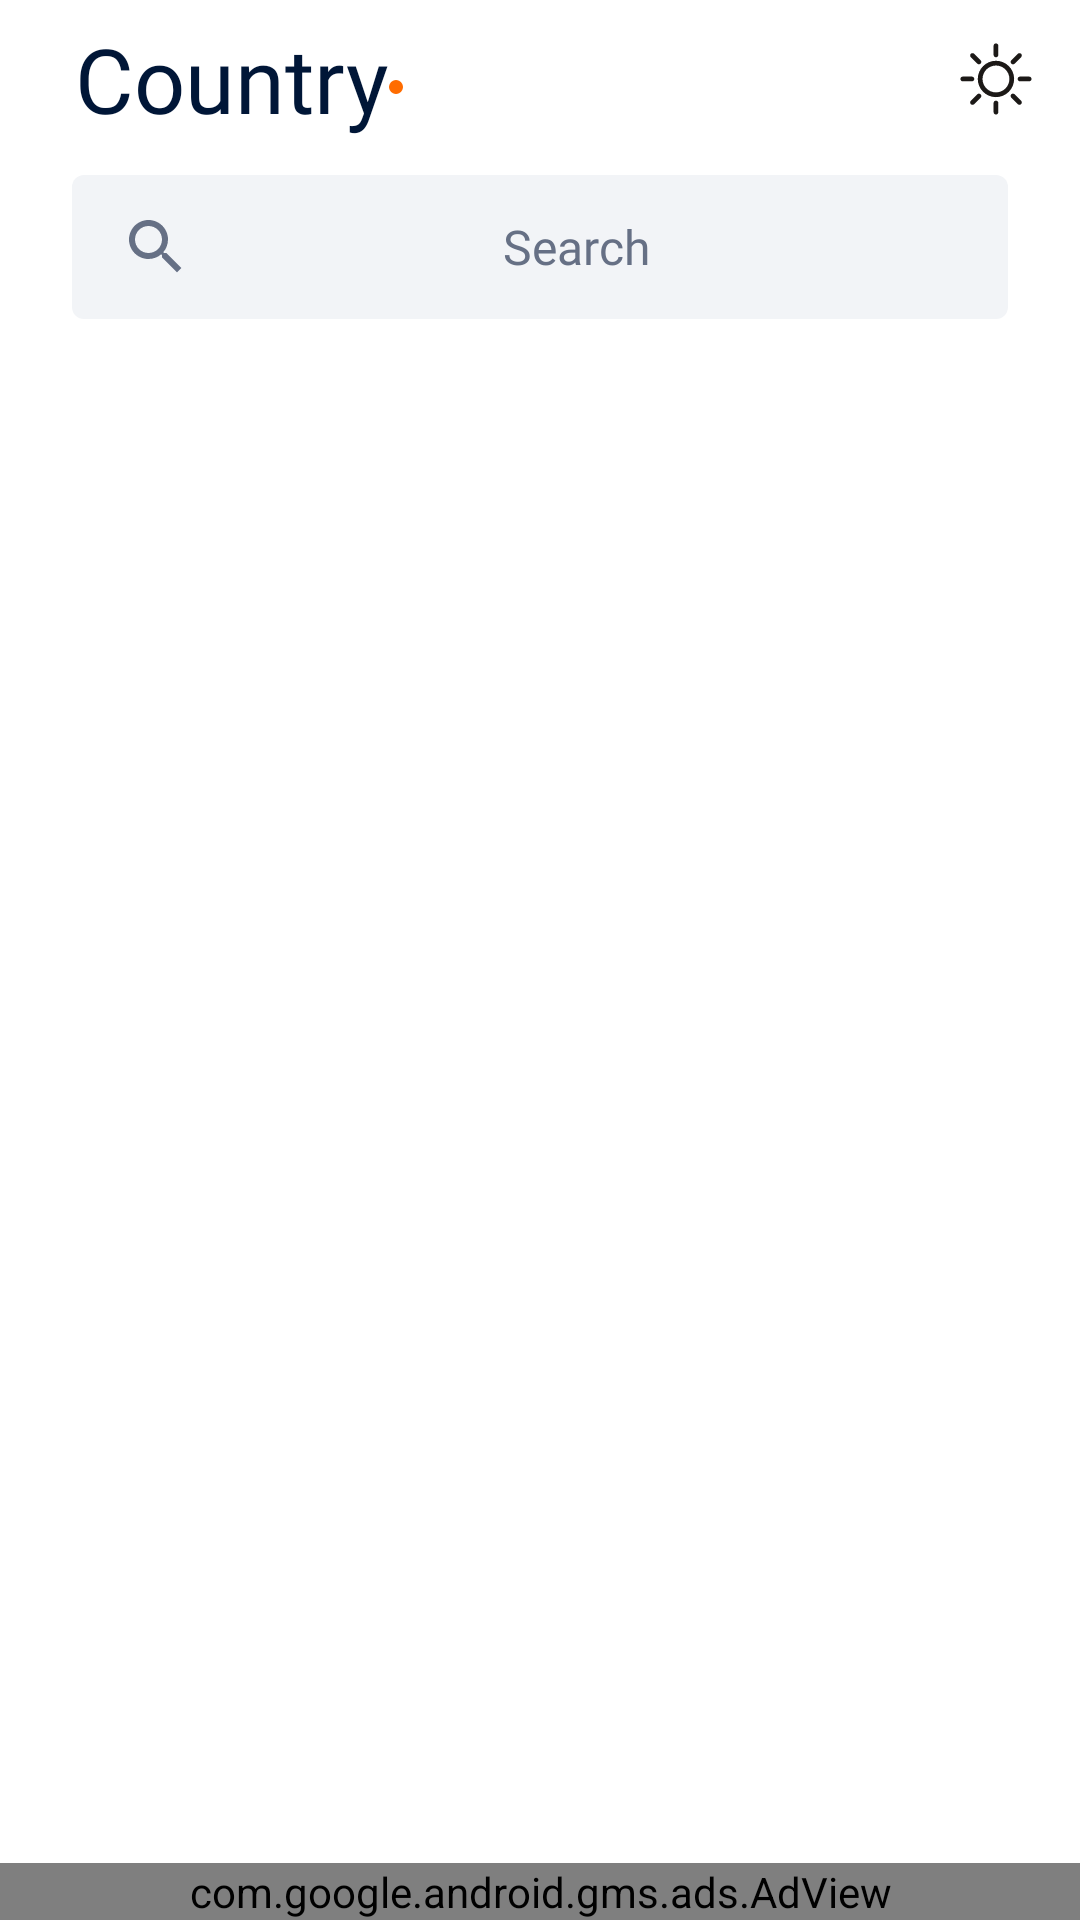

Named icons in this screenshot (1080x1920) and their centers, (x=x, y=y):
sun: (x=996, y=79)
